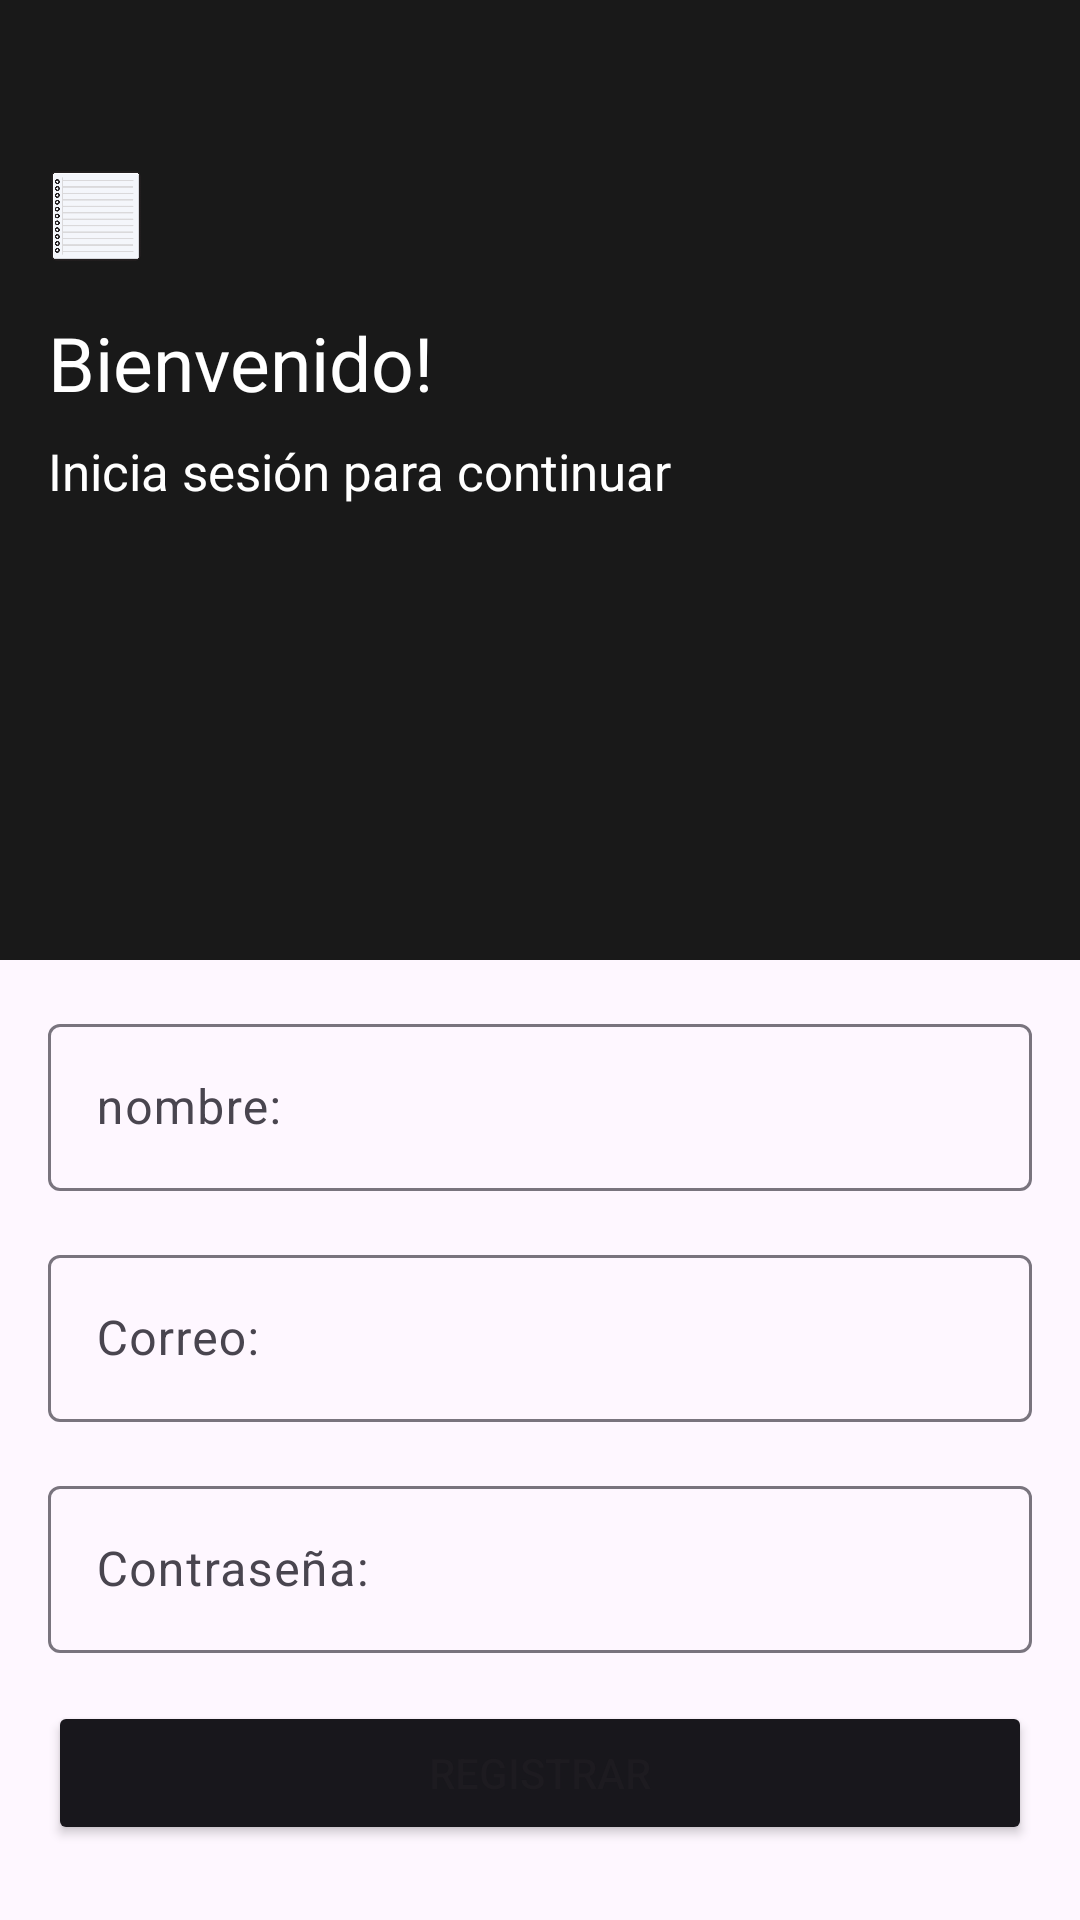

Named icons in this screenshot (1080x1920) and their centers, point (x, y):
notebook: point (96, 216)
